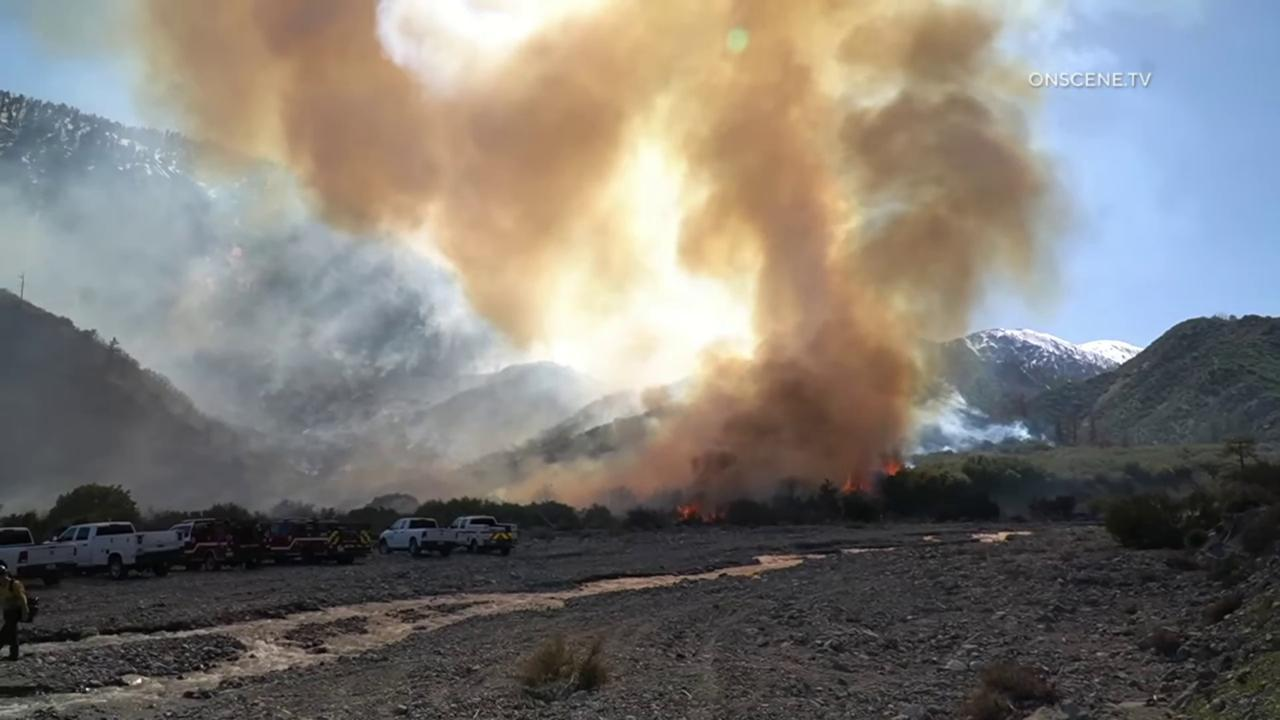fire: (675, 502, 703, 521), (837, 472, 857, 497), (884, 460, 901, 477)
smoke: (0, 0, 1097, 522)
